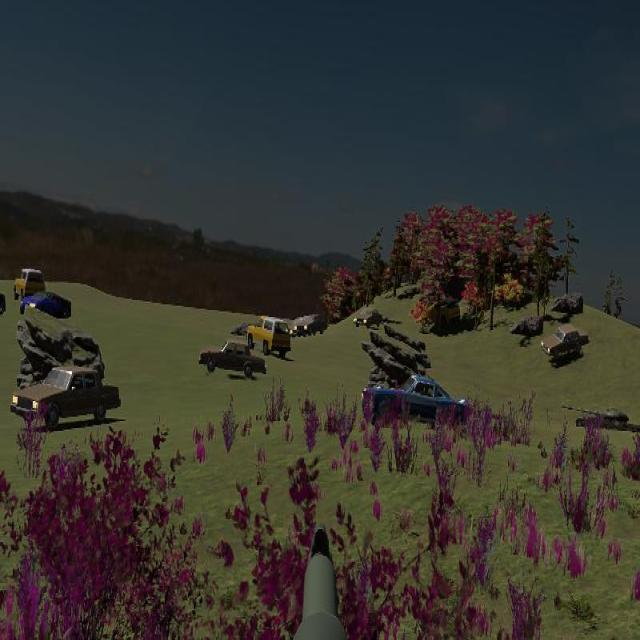Tank: (560, 403, 639, 442)
car: (10, 365, 122, 430), (361, 373, 473, 432), (198, 339, 267, 378), (247, 315, 291, 359), (542, 322, 589, 363), (20, 290, 71, 323), (14, 267, 46, 302), (293, 312, 327, 339), (353, 305, 381, 330)
